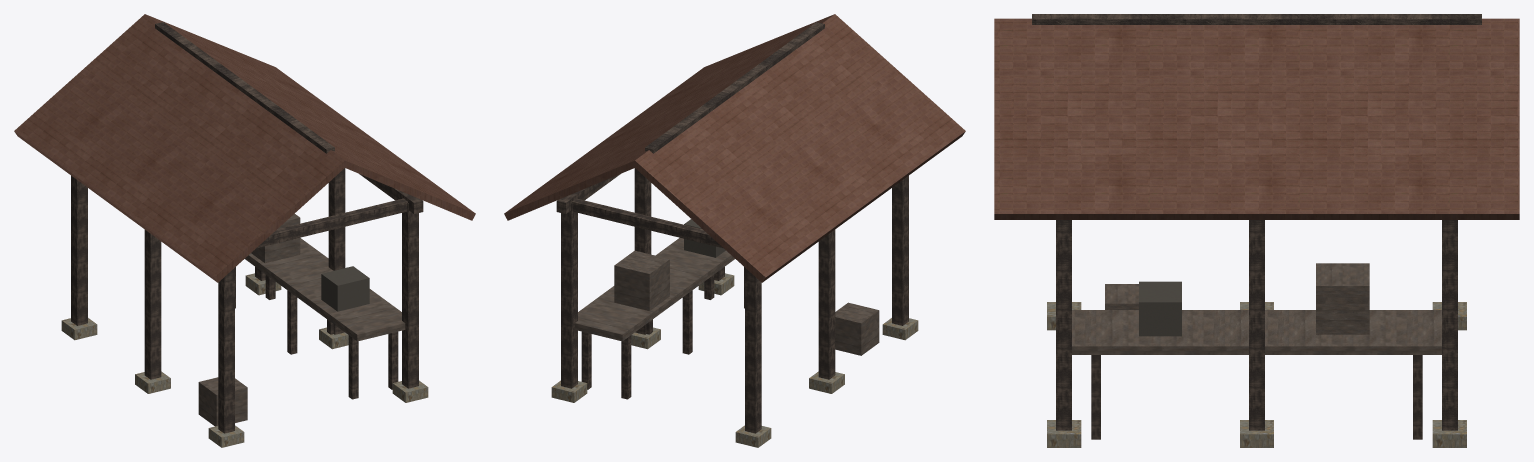
Rendered from prop_hk_stall.glb.
3 views of the same model, side by side, from view 1: azimuth 30°, elevation 25°; view 2: azimuth 150°, elevation 25°; view 3: azimuth 270°, elevation 25° (orthographic). The views are drawn at different scales.
Parts seen in each view (by area): view 1: prop_hk_stall; view 2: prop_hk_stall; view 3: prop_hk_stall.
Boxes of the visible parts, left/top/right/bottom form: prop_hk_stall: left=14, top=14, right=475, bottom=447; prop_hk_stall: left=504, top=14, right=965, bottom=447; prop_hk_stall: left=994, top=14, right=1519, bottom=447.
Bounding box in the file's own units: 3.7 × 3.76 × 4.9.
5 materials, 5 textured.
